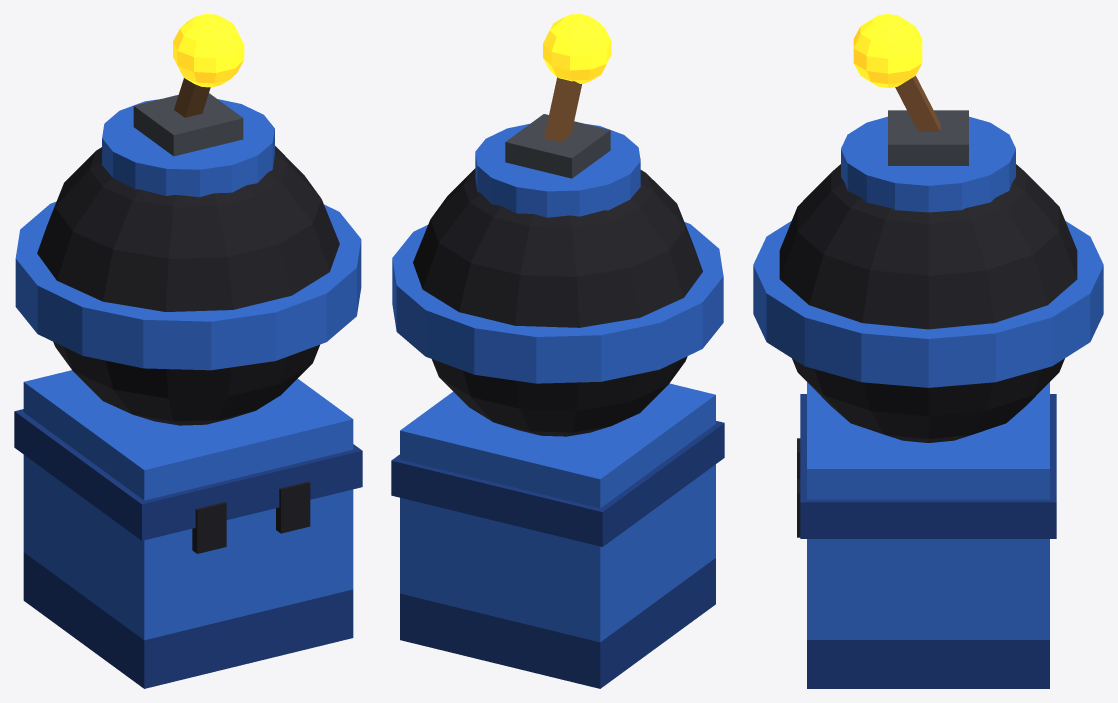
Rendered from bomber_blue.fbx.
3 renders of one model, left to right at view 1: azimuth 30°, elevation 25°; view 2: azimuth 150°, elevation 25°; view 3: azimuth 270°, elevation 25°, orthographic. The views are drawn at different scales.
Visible parts, largest first — view 1: bomber_blue; view 2: bomber_blue; view 3: bomber_blue.
Boxes of the visible parts, left/top/right/bottom form: bomber_blue: left=14, top=14, right=362, bottom=688; bomber_blue: left=391, top=14, right=724, bottom=688; bomber_blue: left=753, top=14, right=1103, bottom=688.
Size of the model in its own units: 0.52 by 1.01 by 0.52.
